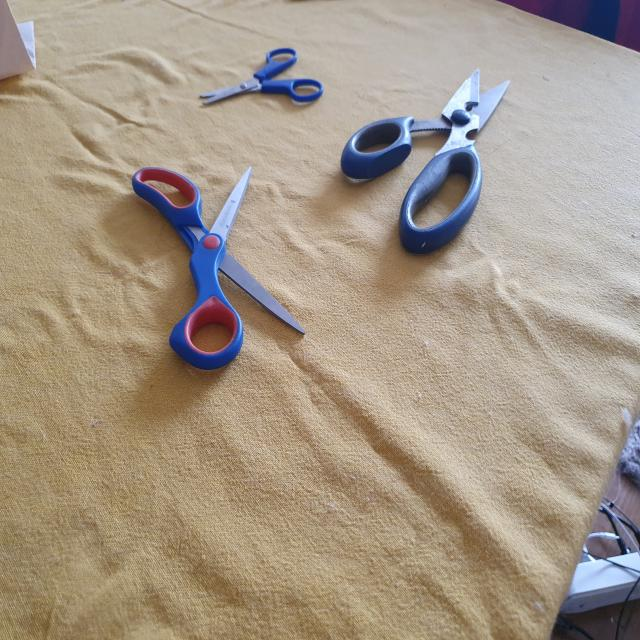scissors: (129, 159, 302, 371), (340, 66, 516, 261), (200, 45, 324, 108)
